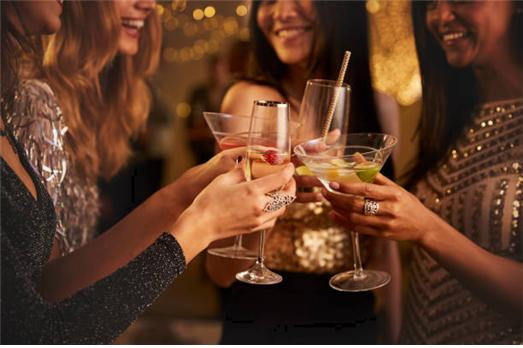alcohol: (294, 135, 396, 295), (235, 100, 293, 285), (202, 110, 256, 260), (299, 82, 355, 159)
